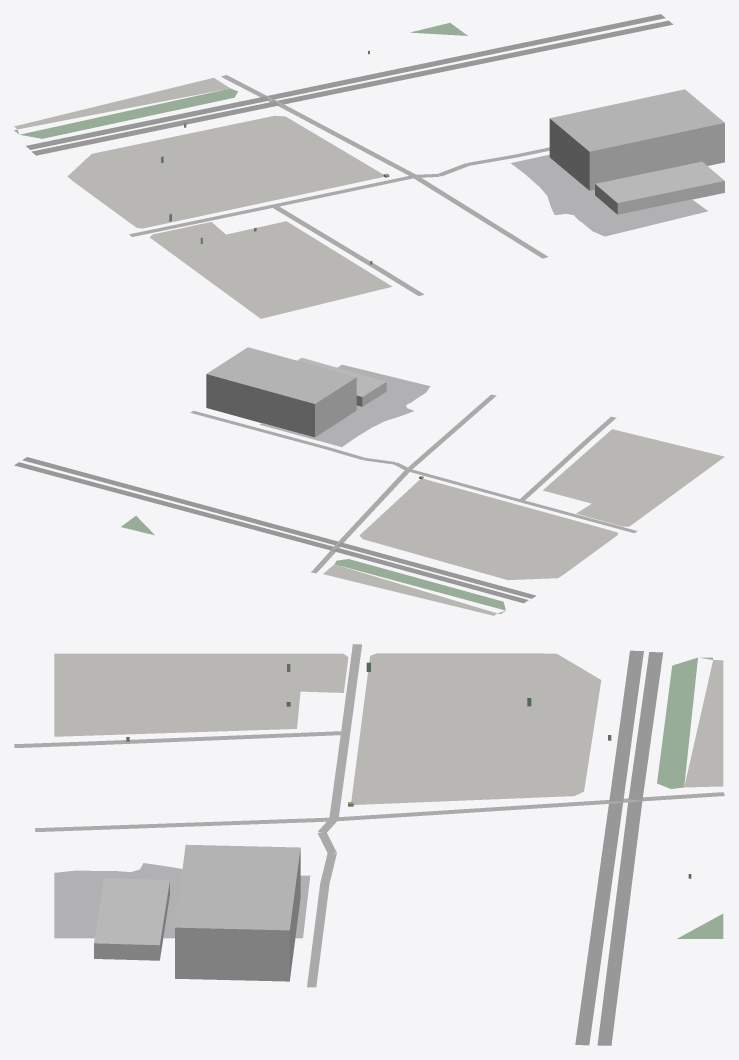
3 renders of one model, top to bottom at view 1: azimuth 30°, elevation 25°; view 2: azimuth 150°, elevation 25°; view 3: azimuth 270°, elevation 25°, orthographic. The views are drawn at different scales.
Size of the model in its own units: 702 by 42.96 by 531.
